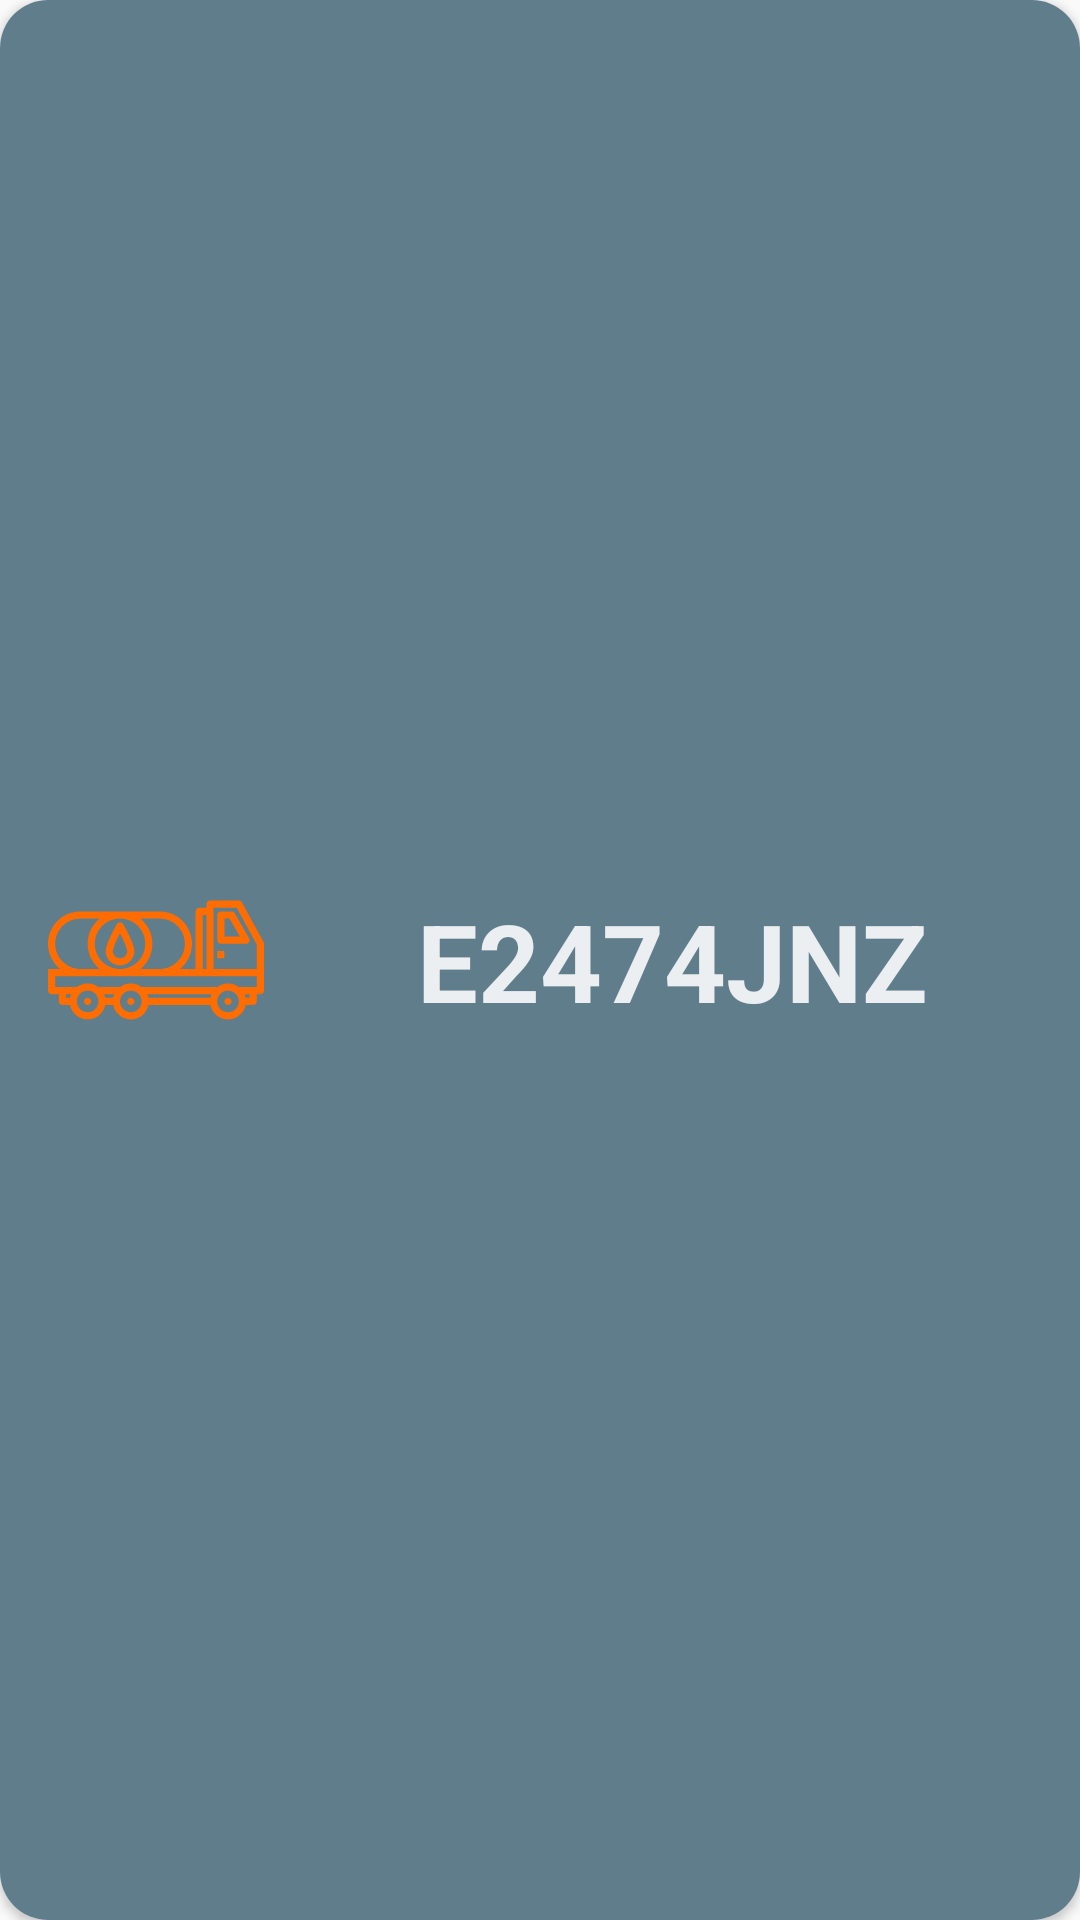

Where to tap for icons on this 1080px x 1920px app screen, as (x=x, y=y):
oil truck: (x=156, y=960)
